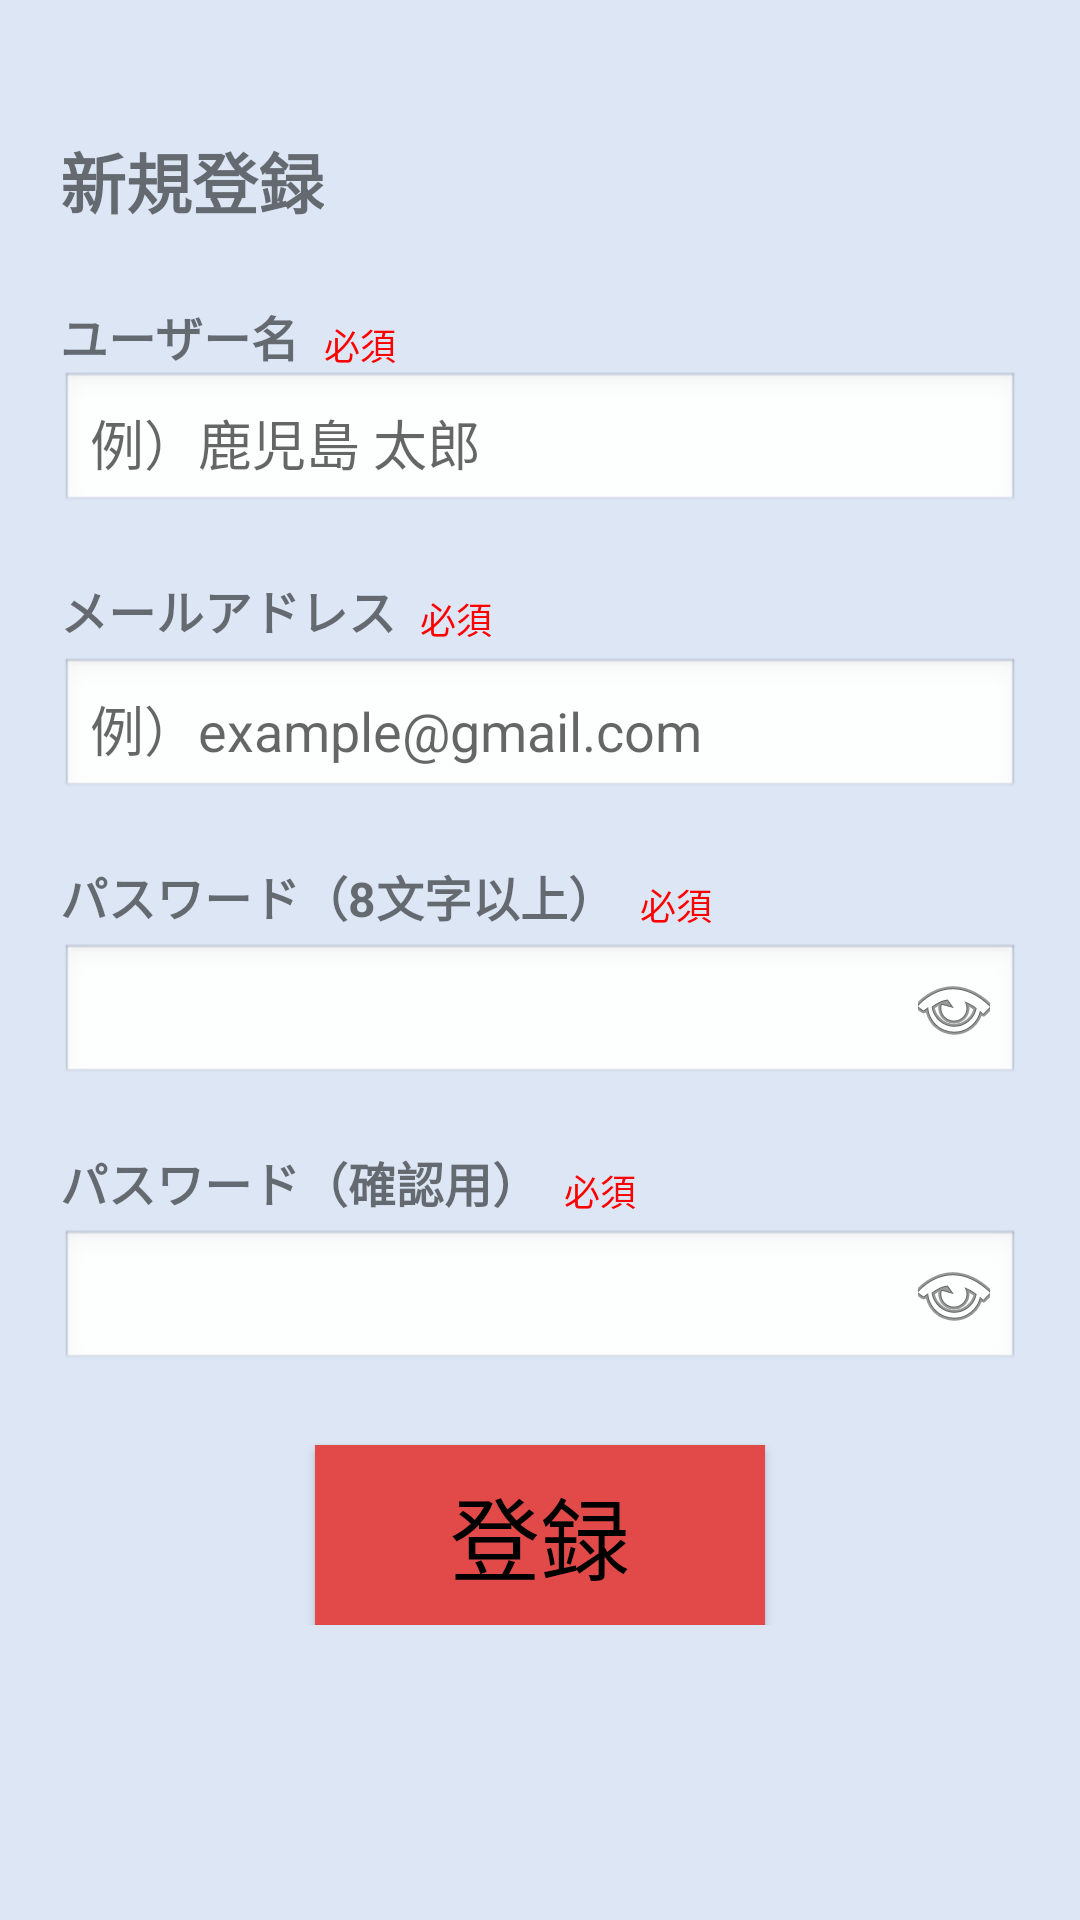

Icon click points for this 1080 × 1920 phone screenshot, format [x,y]:
view: [954,1010], [954,1296]
